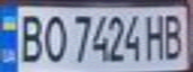2: (106, 11, 127, 63)
4: (121, 11, 145, 62), (90, 10, 109, 63)
7: (69, 11, 93, 63)
B: (12, 10, 45, 63), (160, 10, 190, 61)
H: (142, 10, 169, 61)
O: (39, 11, 69, 63)
